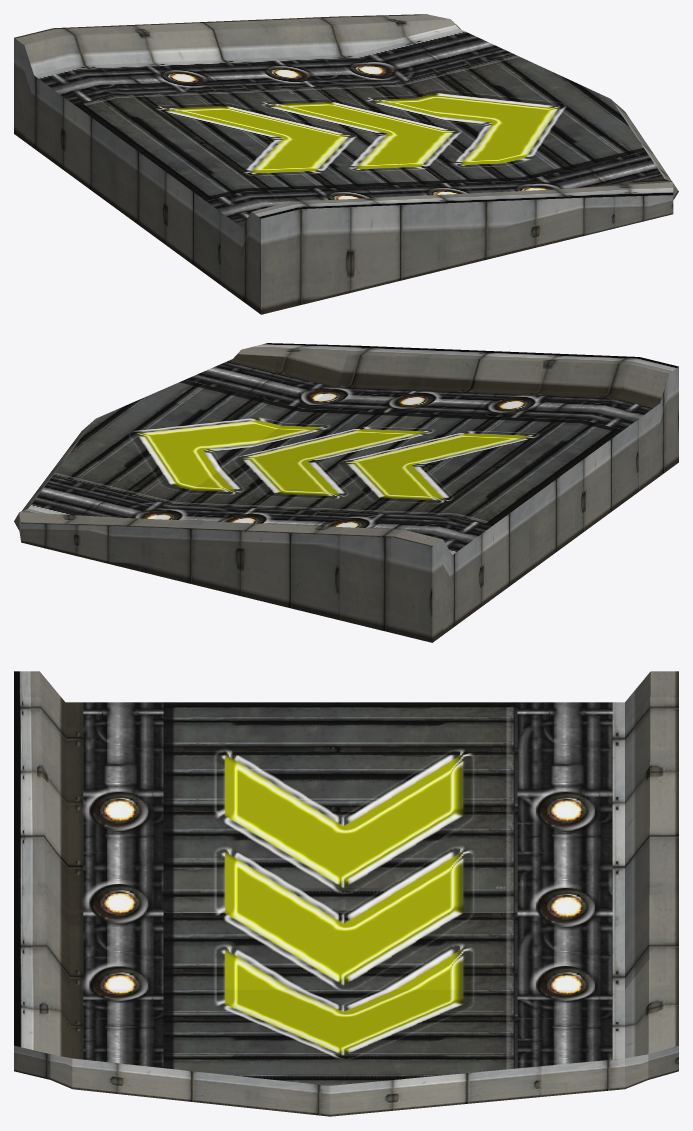
Rendered from L15_start.FBX.
3 renders of one model, top to bottom at view 1: azimuth 30°, elevation 25°; view 2: azimuth 150°, elevation 25°; view 3: azimuth 270°, elevation 25°, orthographic. The views are drawn at different scales.
Visible parts, largest first — view 1: start; view 2: start; view 3: start.
Boxes of the visible parts, x1,y1,x2,y2 form: start: (14, 14, 678, 314); start: (14, 343, 678, 642); start: (14, 671, 678, 1116).
Size of the model in its own units: 112 by 21.29 by 99.2.
Materials: 1 (1 with a texture image).
